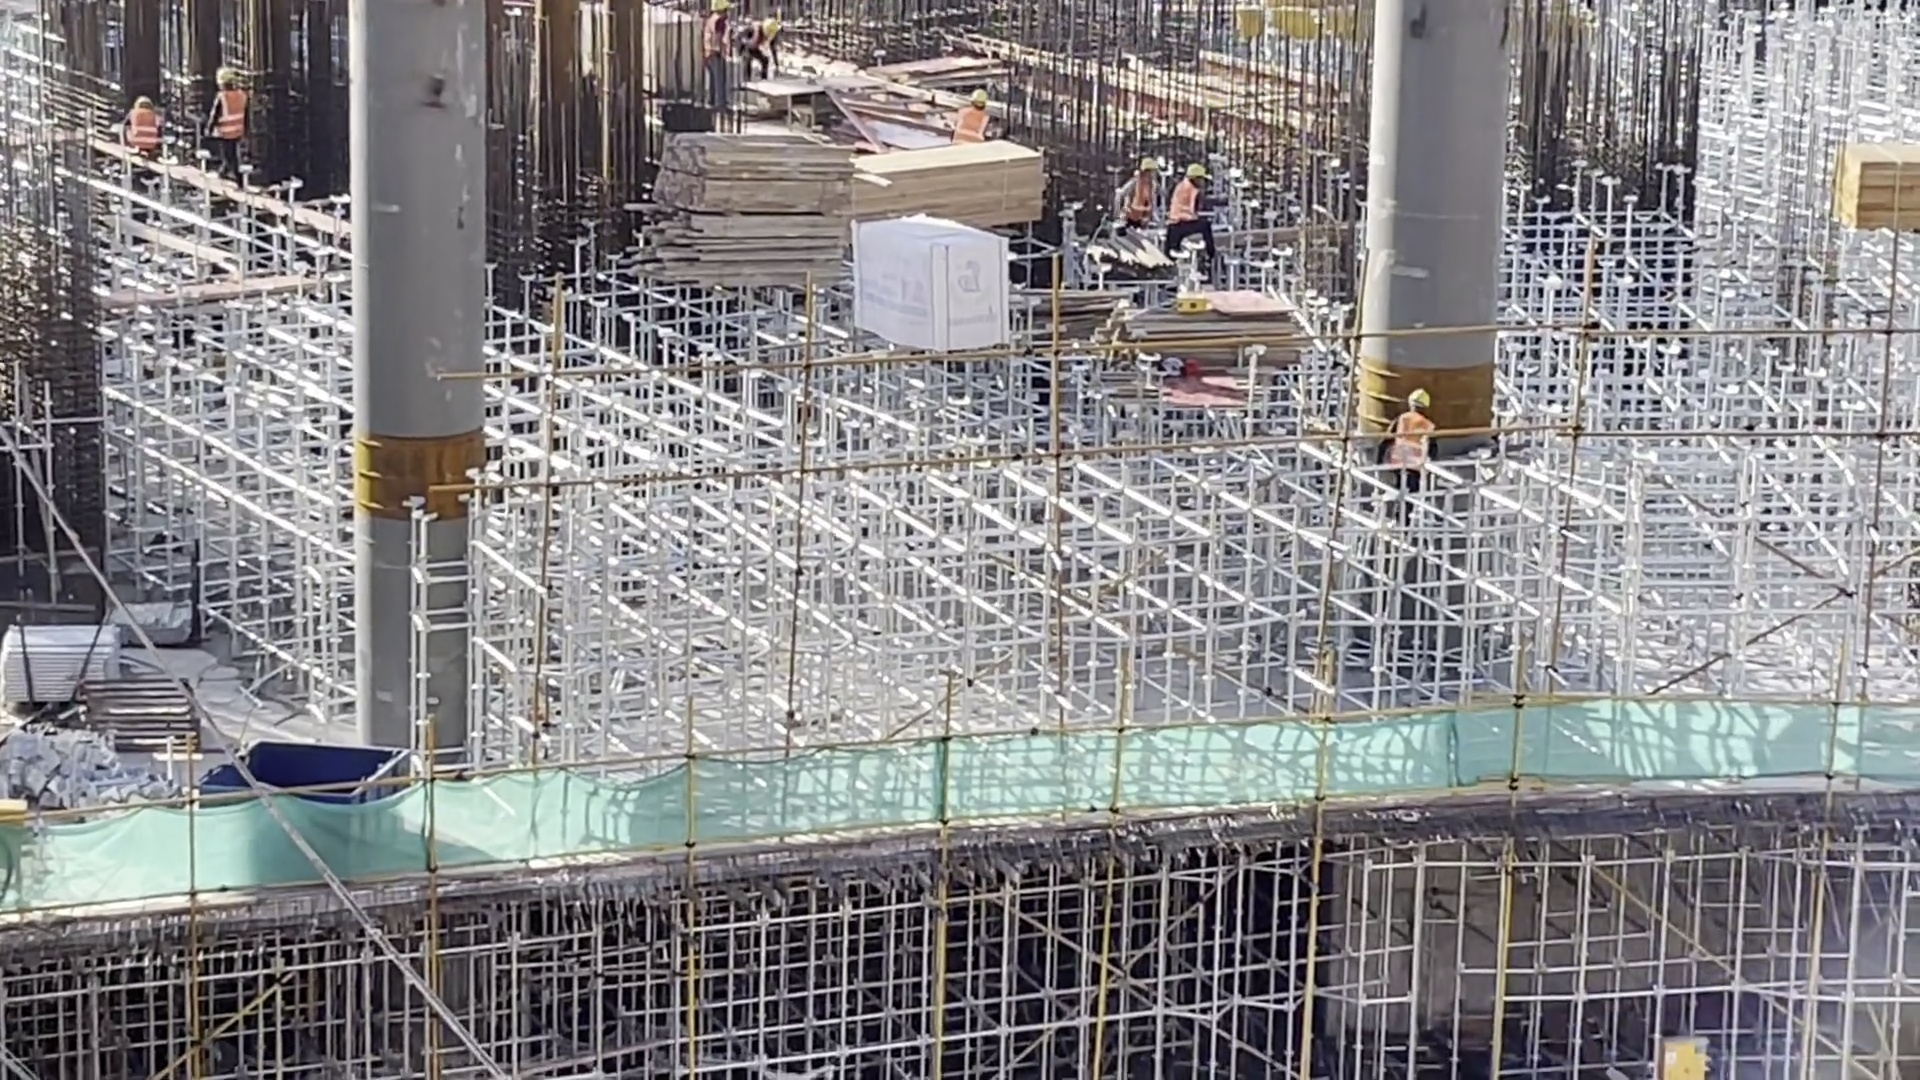board: (1110, 293, 1309, 373)
cutter: (737, 68, 891, 128)
ebox: (1660, 1025, 1710, 1080)
helmet: (1183, 161, 1210, 186), (967, 88, 990, 106), (215, 65, 235, 82), (1137, 161, 1156, 173)
hopper: (194, 737, 415, 800)
person: (1375, 389, 1439, 498), (202, 67, 248, 189), (1167, 163, 1215, 259), (698, 1, 731, 111), (119, 98, 165, 173), (1112, 159, 1160, 225), (738, 16, 781, 78), (949, 87, 994, 145)
vest: (1397, 416, 1432, 474), (1128, 171, 1159, 225), (214, 89, 246, 138), (1169, 180, 1200, 229), (127, 111, 163, 150), (958, 107, 991, 141)
wood: (649, 129, 847, 300), (849, 143, 1038, 238), (1838, 134, 1920, 237)
